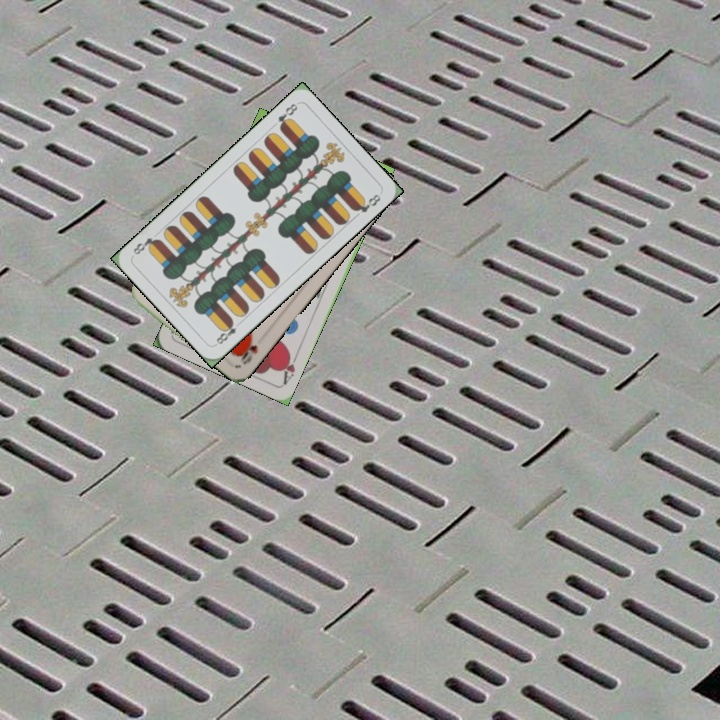E8: (211, 316, 245, 348), (274, 99, 300, 133)
HA: (277, 348, 301, 387)
HO: (234, 335, 260, 367)
